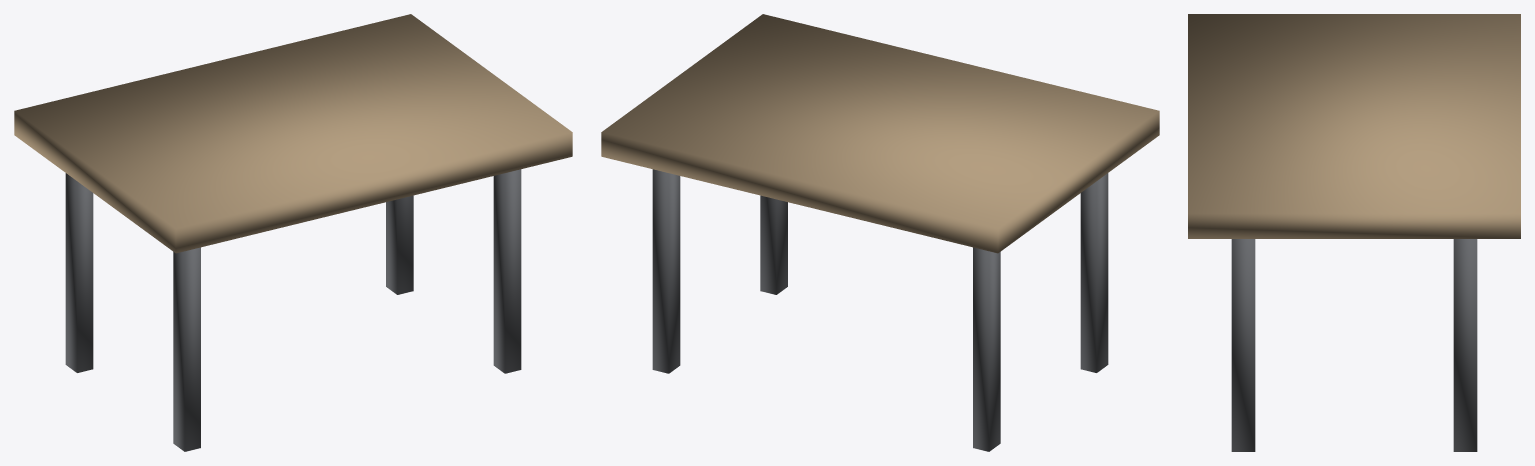
File: dining_table__deep.glb
3 views of the same model, side by side, from view 1: azimuth 30°, elevation 25°; view 2: azimuth 150°, elevation 25°; view 3: azimuth 270°, elevation 25° (orthographic). The views are drawn at different scales.
Visible parts, largest first — view 1: world; view 2: world; view 3: world.
Boxes of the visible parts, bbox=[...] form: world: bbox=[14, 14, 572, 451]; world: bbox=[601, 14, 1159, 451]; world: bbox=[1188, 14, 1520, 451].
Bounding box in the file's own units: 1.35 × 0.8 × 0.9516.
